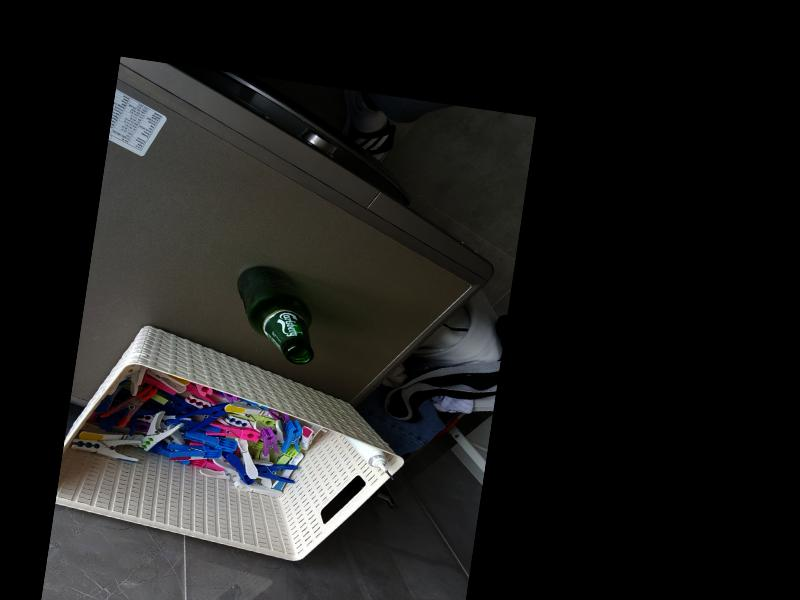Beer: (229, 261, 326, 364)
